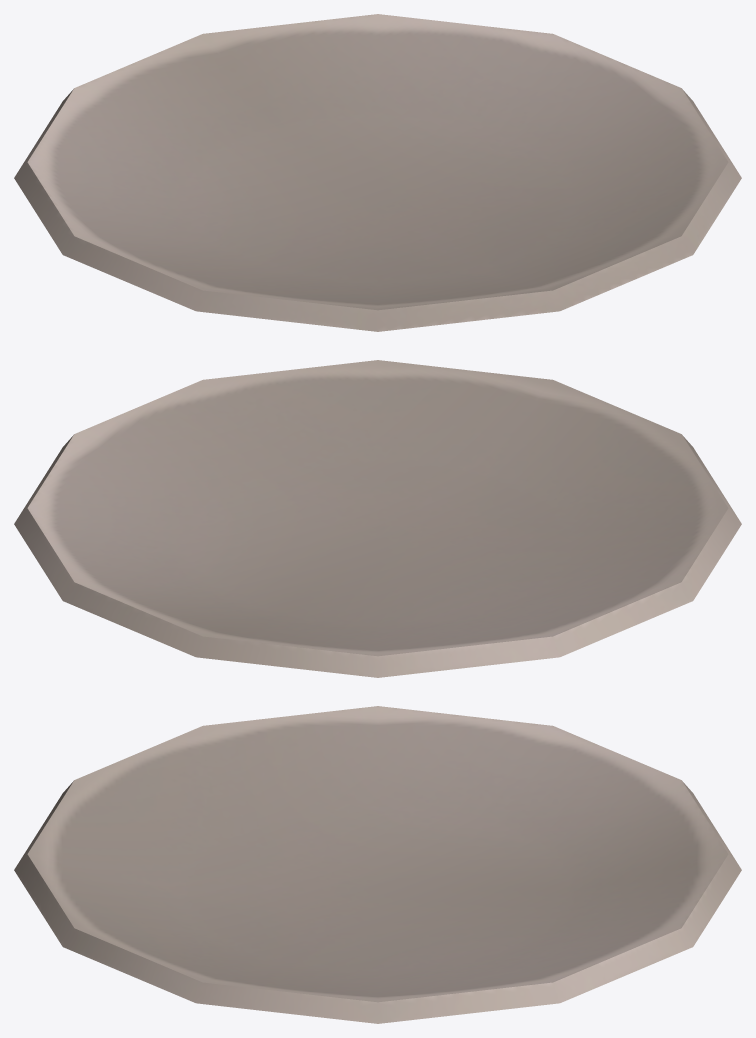
Rendered from O_Plate_A.fbx.
3 views of the same model, one above another, from view 1: azimuth 30°, elevation 25°; view 2: azimuth 150°, elevation 25°; view 3: azimuth 270°, elevation 25° (orthographic).
Parts seen in each view (by area): view 1: O_Plate_A; view 2: O_Plate_A; view 3: O_Plate_A.
Part boxes in pixels (x1,y1,x2,y2): O_Plate_A: (14,14,741,331); O_Plate_A: (14,360,741,677); O_Plate_A: (14,706,741,1023).
Bounding box in the file's own units: 42.68 × 4.74 × 42.68.
